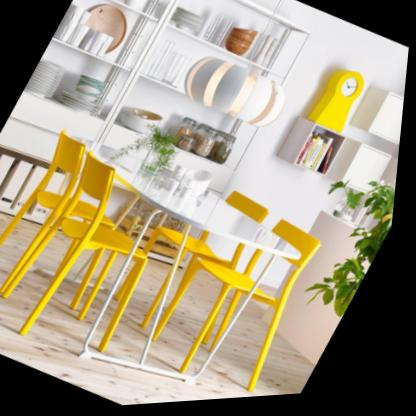Chair: (0, 141, 201, 376), (138, 190, 345, 407), (0, 122, 162, 321)
